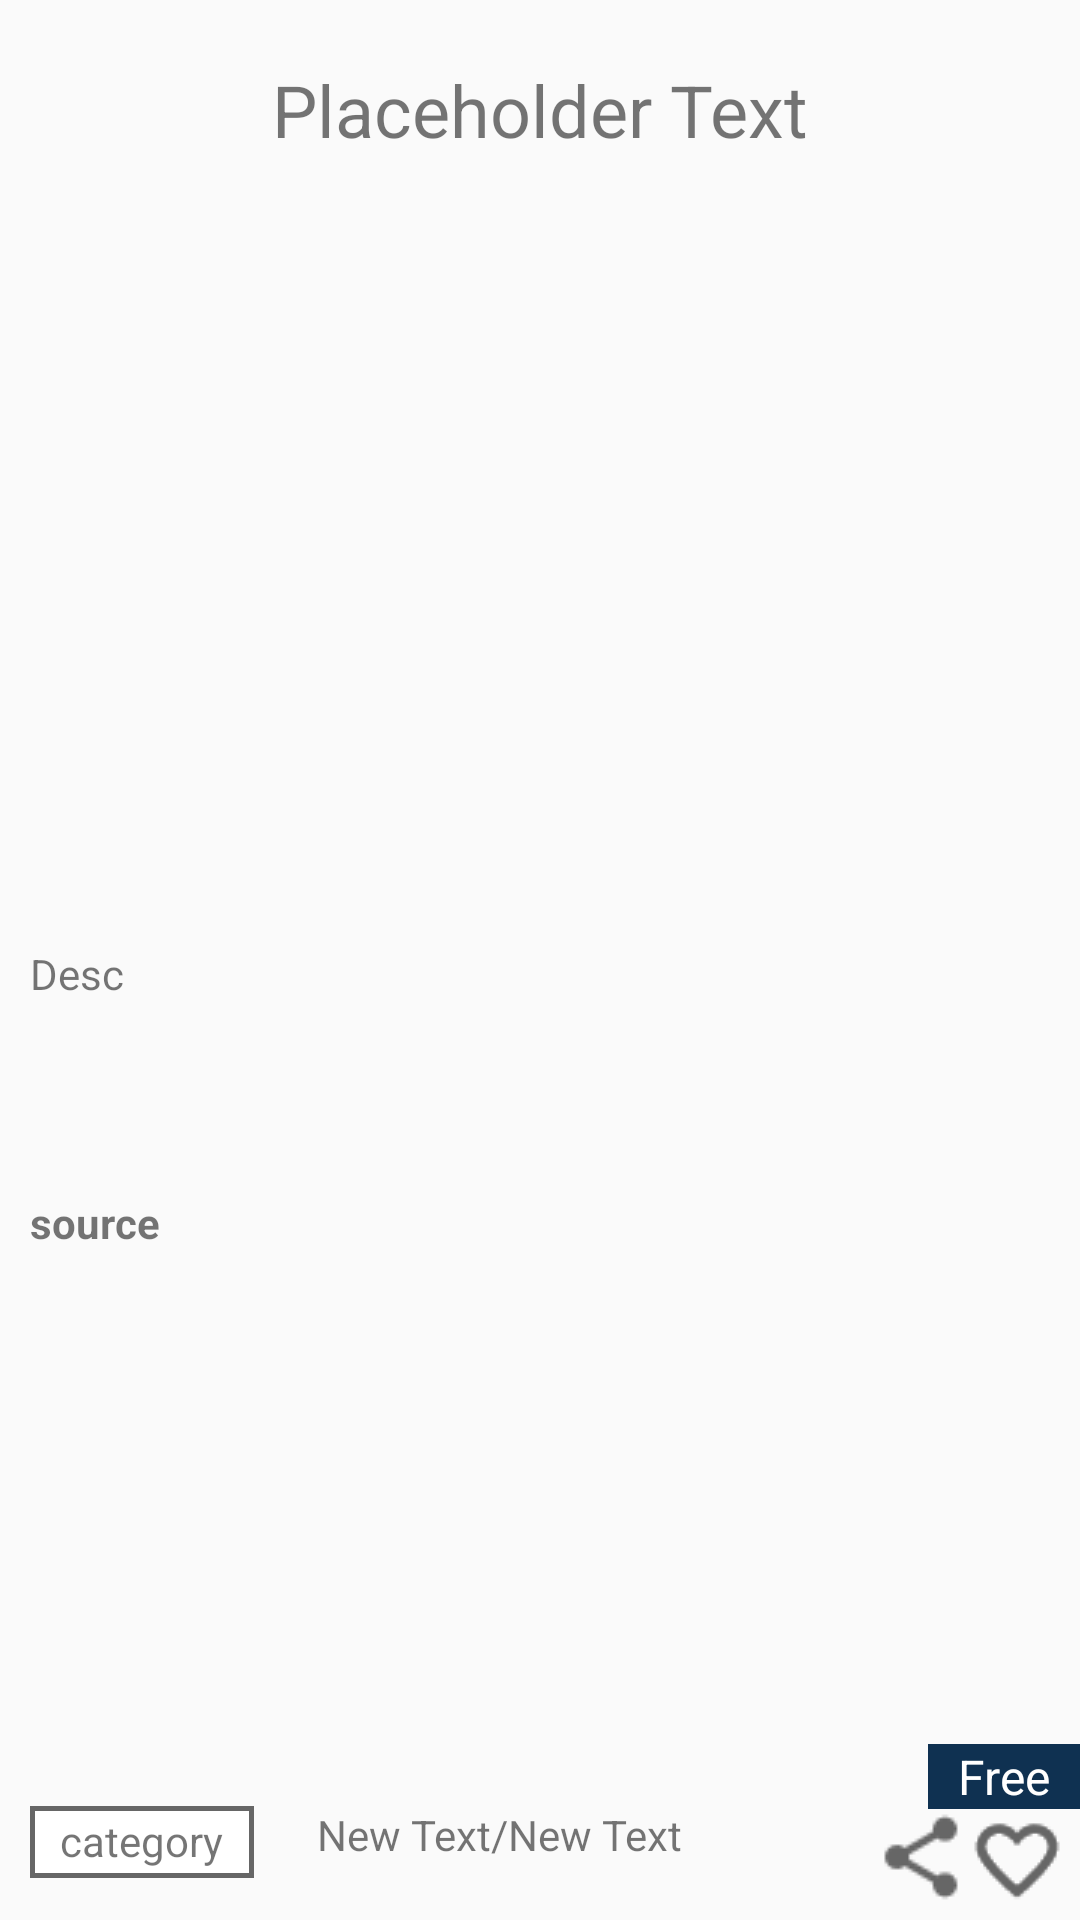

Named icons in this screenshot (1080px x 1920px) and their bounding boxes, [x1=x1, y1=y1, x2=x2, y2=y2]:
like: [x1=974, y1=1823, x2=1060, y2=1897]
share: [x1=884, y1=1815, x2=958, y2=1899]
